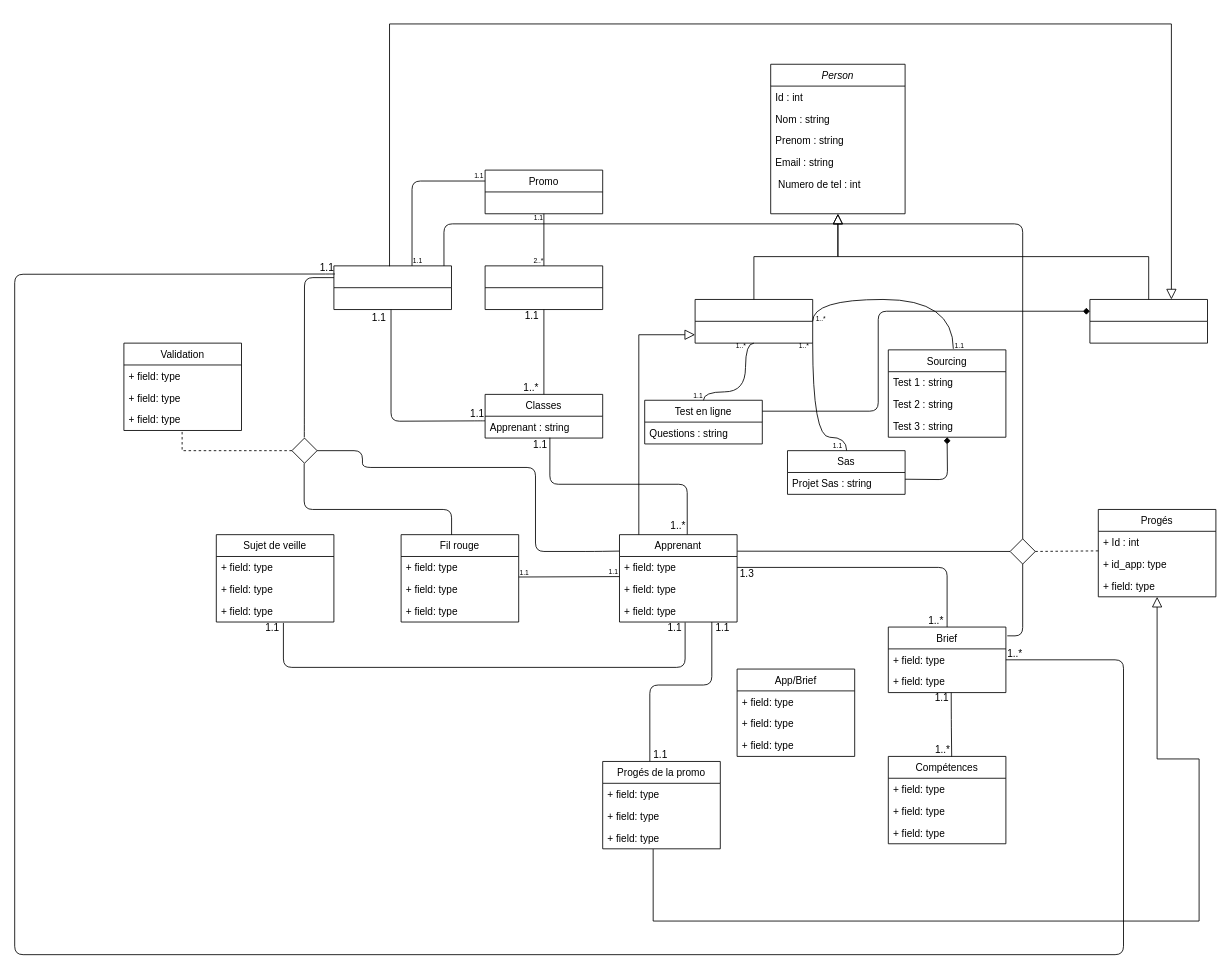
The diagram is 1231 pixels wide and 970 high, and some of its shapes have lost their labels. Here are the shapes that lost their labels. From the top down, the centre of each, then its label:
At [392,287]: "Formateur".
At [543,287]: "Spécialités".
At [753,321]: "Condidat".
At [1148,321]: "Administration".
